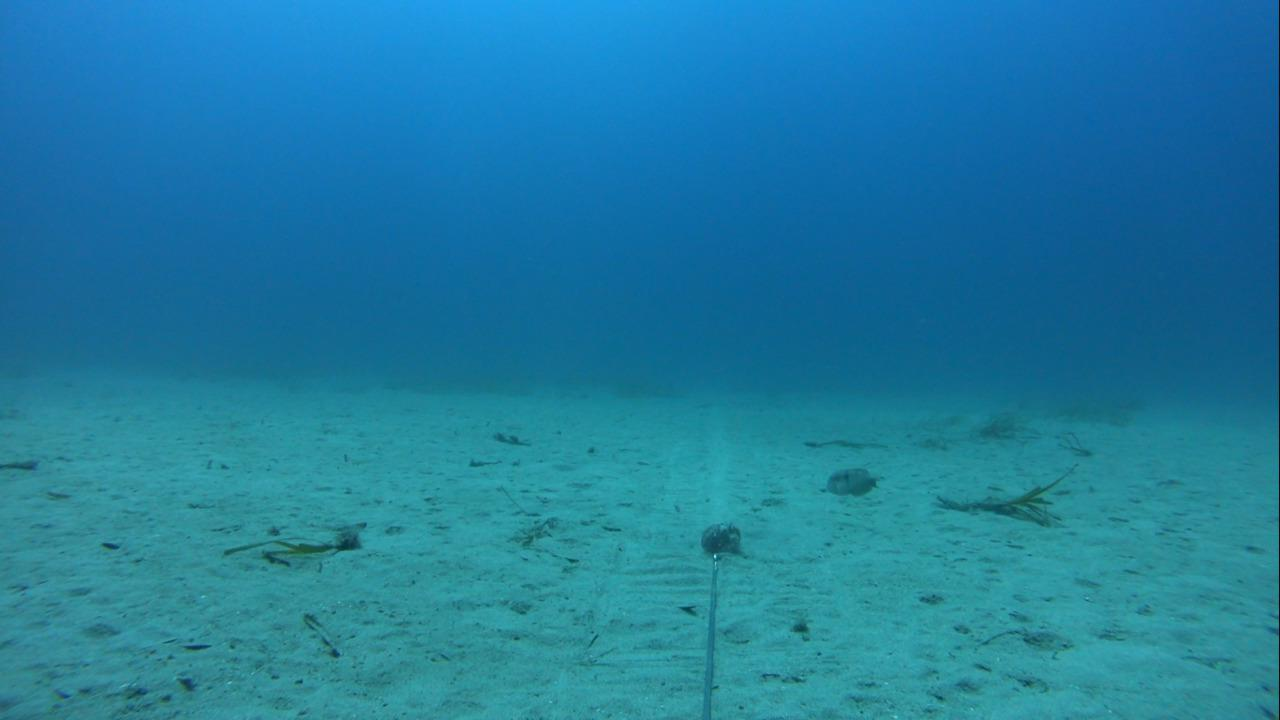raor: (817, 462, 882, 497)
